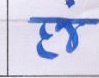anusvara: (67, 0, 74, 6)
